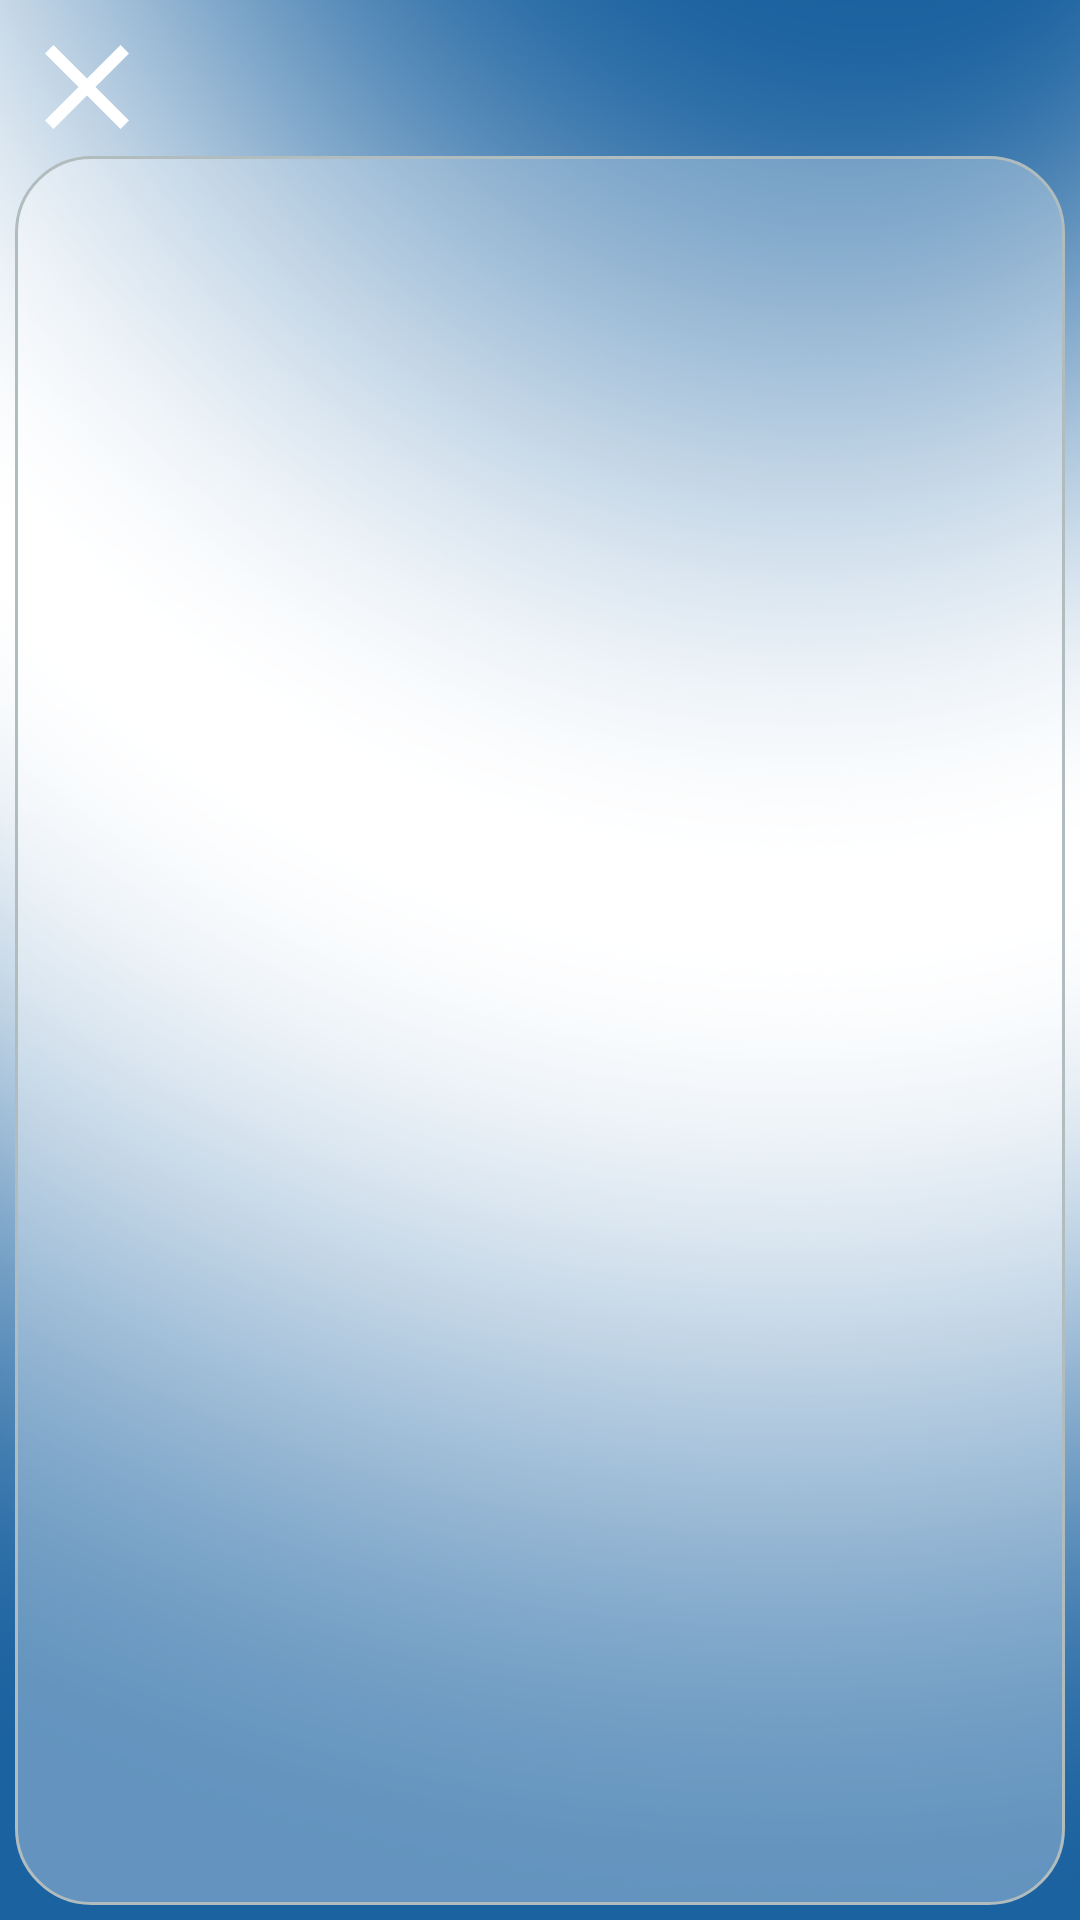

Named icons in this screenshot (1080 × 1920) and their centers, point (x, y):
frame close: point (87, 87)
